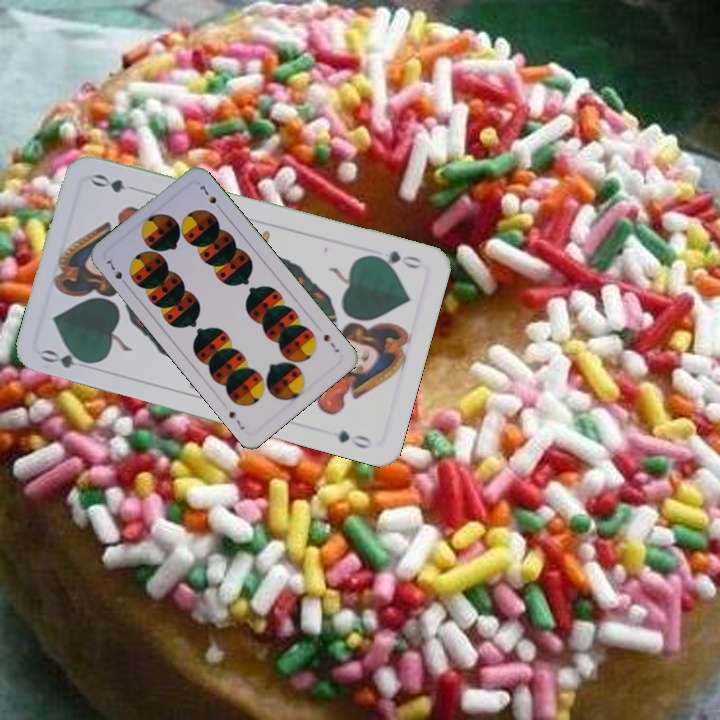GO: (37, 344, 98, 371), (366, 246, 424, 272)
S7: (102, 254, 131, 289), (319, 330, 342, 355)
